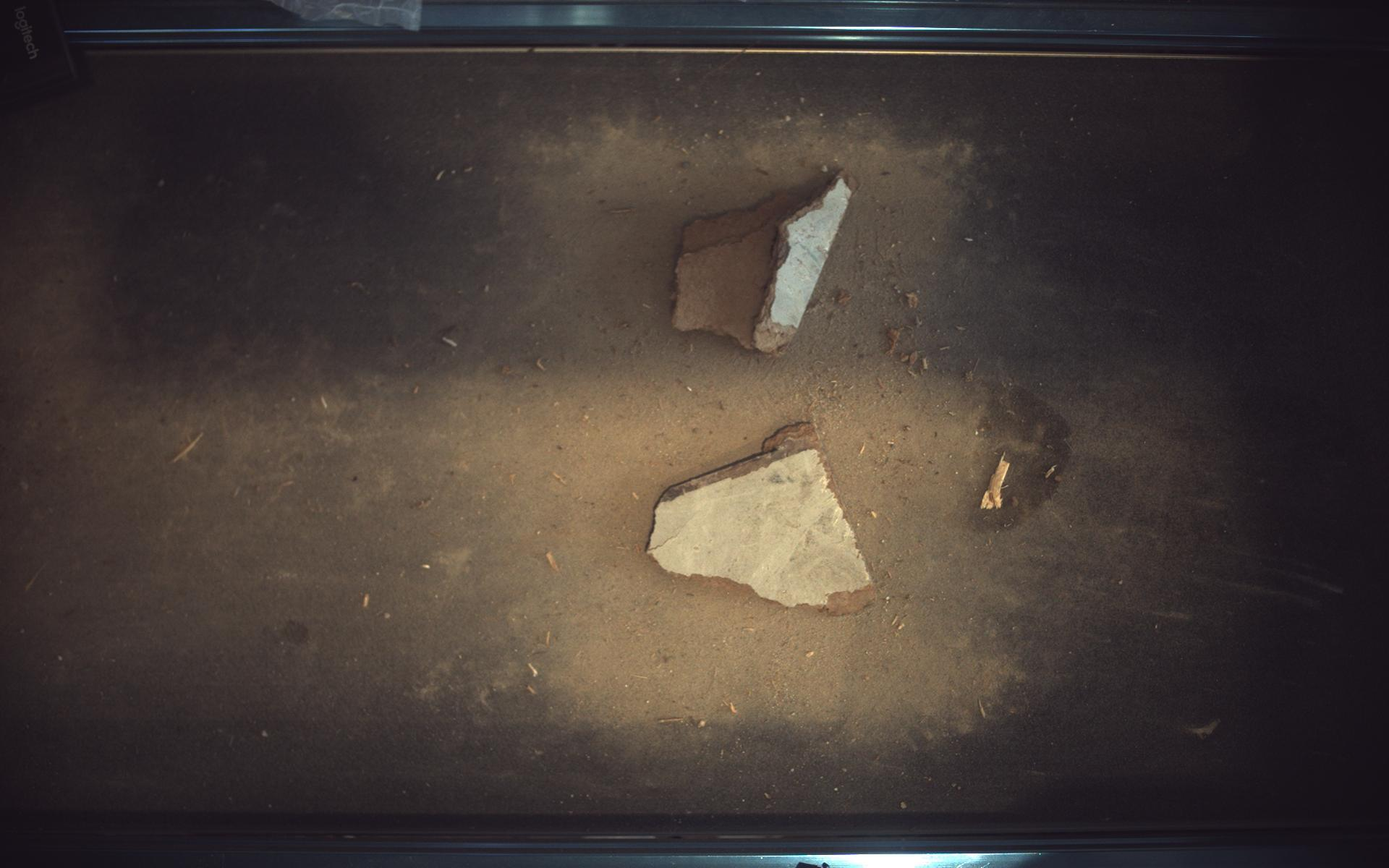wood: (648, 422, 877, 616), (674, 170, 857, 353)
